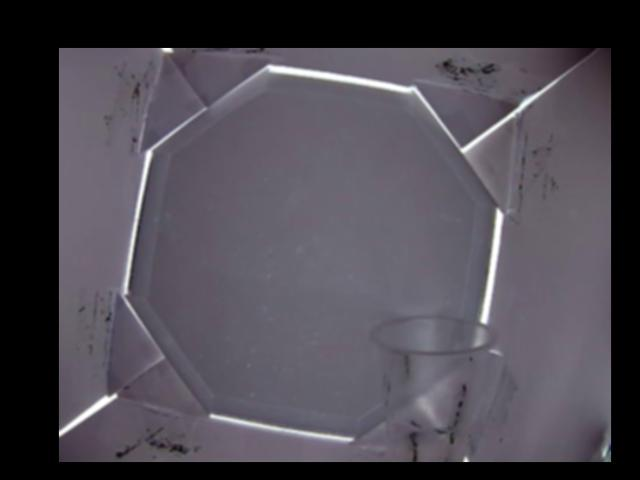Cup: (367, 313, 495, 462)
